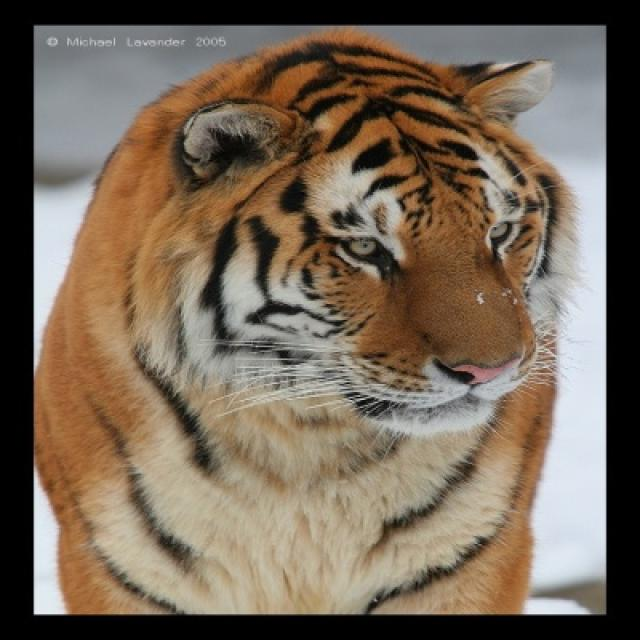Tiger: (36, 38, 573, 608)
